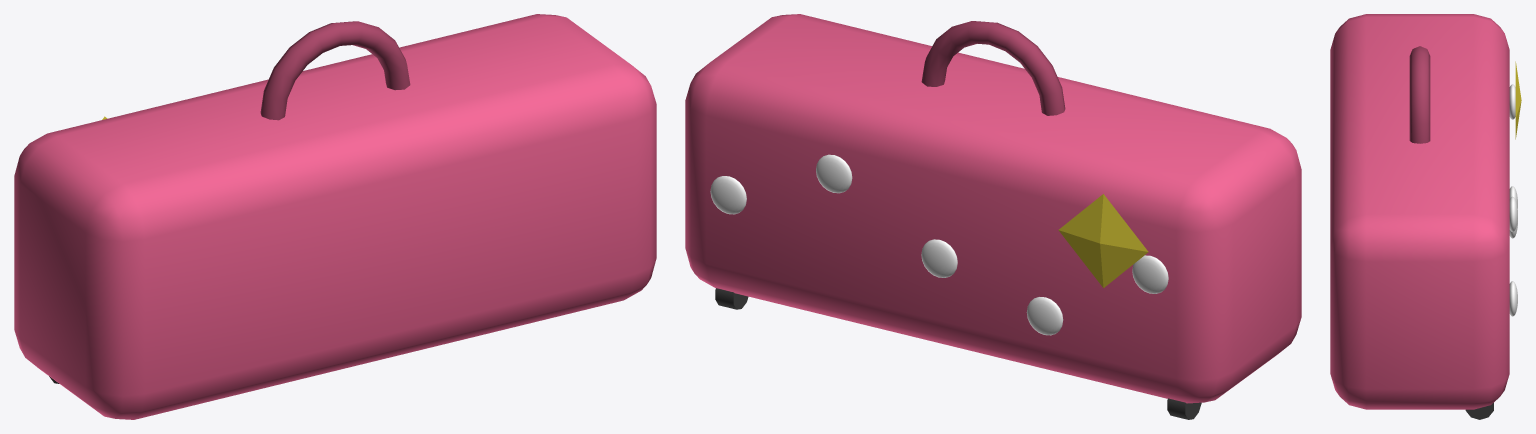
The model's file is kid_suitcase.fbx.
3 views of the same model, side by side, from view 1: azimuth 30°, elevation 25°; view 2: azimuth 150°, elevation 25°; view 3: azimuth 270°, elevation 25° (orthographic). The views are drawn at different scales.
Visible parts, largest first — view 1: Rosie's Suitcase; view 2: Rosie's Suitcase; view 3: Rosie's Suitcase.
Boxes of the visible parts, x1,y1,x2,y2 form: Rosie's Suitcase: (14,14,656,419); Rosie's Suitcase: (685,14,1301,419); Rosie's Suitcase: (1330,14,1521,419).
Bounding box in the file's own units: 1.8 × 0.995 × 0.64.
